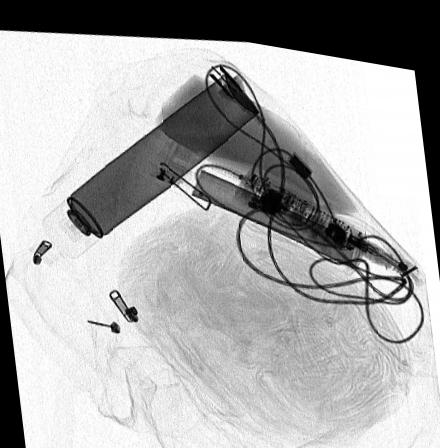Sprayer: (41, 64, 259, 256)
